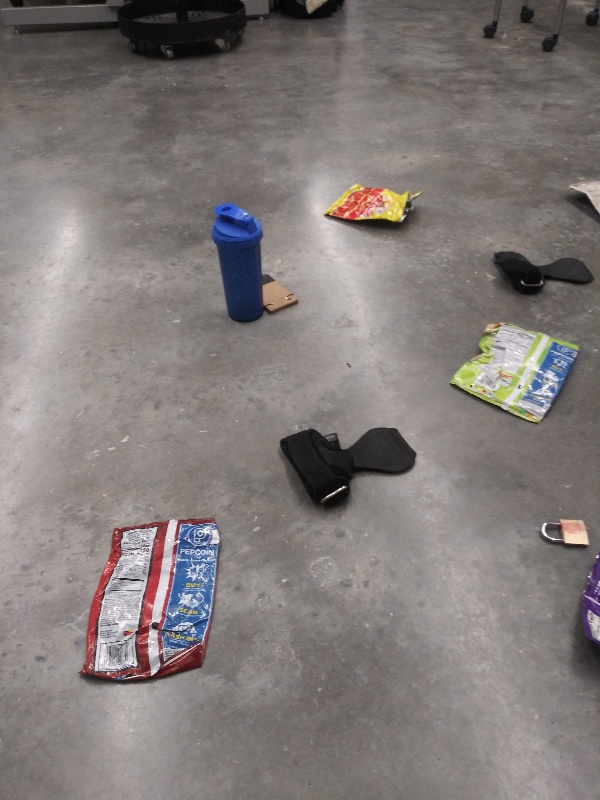bag: (73, 513, 225, 688), (444, 321, 587, 424), (315, 179, 428, 234), (571, 549, 600, 661)
